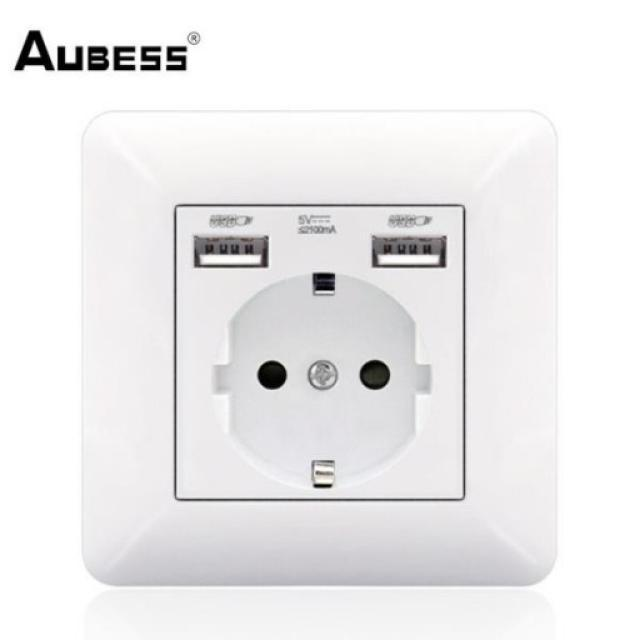typeb: (60, 103, 598, 600)
